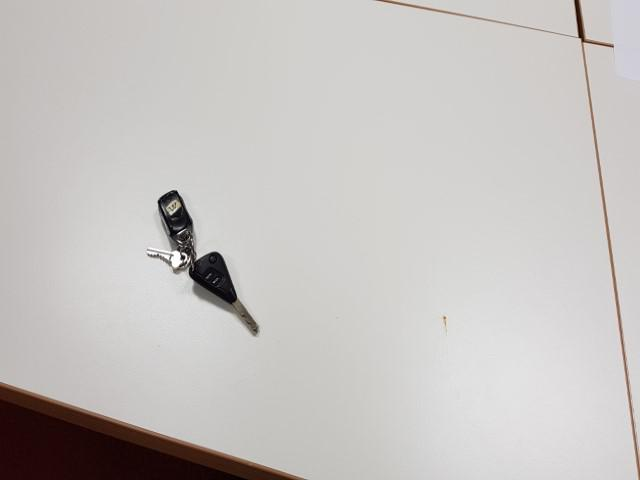key: (188, 251, 260, 334)
